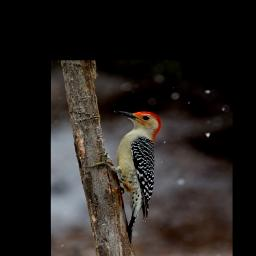Woodpecker: (87, 110, 161, 242)
